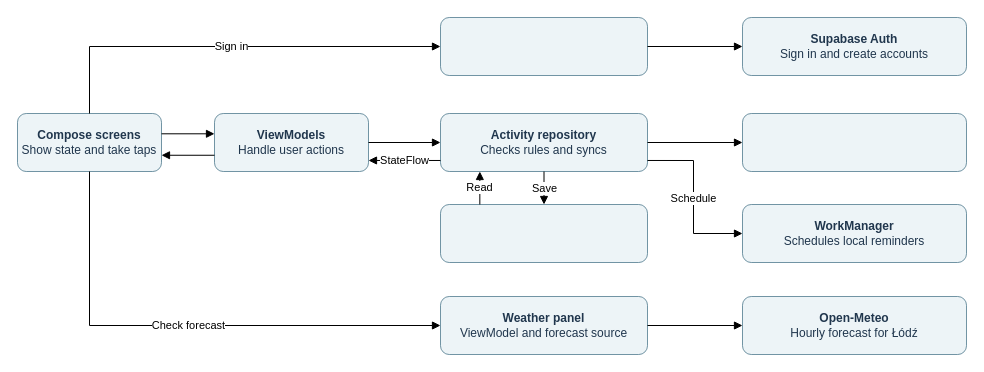
Some shapes in this 984 by 372 pixel diagram are drawn without their labels. The box of each missing label's shape, as (x1, y1, x2, y2) in pixels:
AuthRepository Keeps the signed-in session: (440, 16, 648, 76)
Room cache Saved list and update time: (440, 204, 648, 262)
Supabase database Shared list and activity rules: (742, 112, 966, 172)
